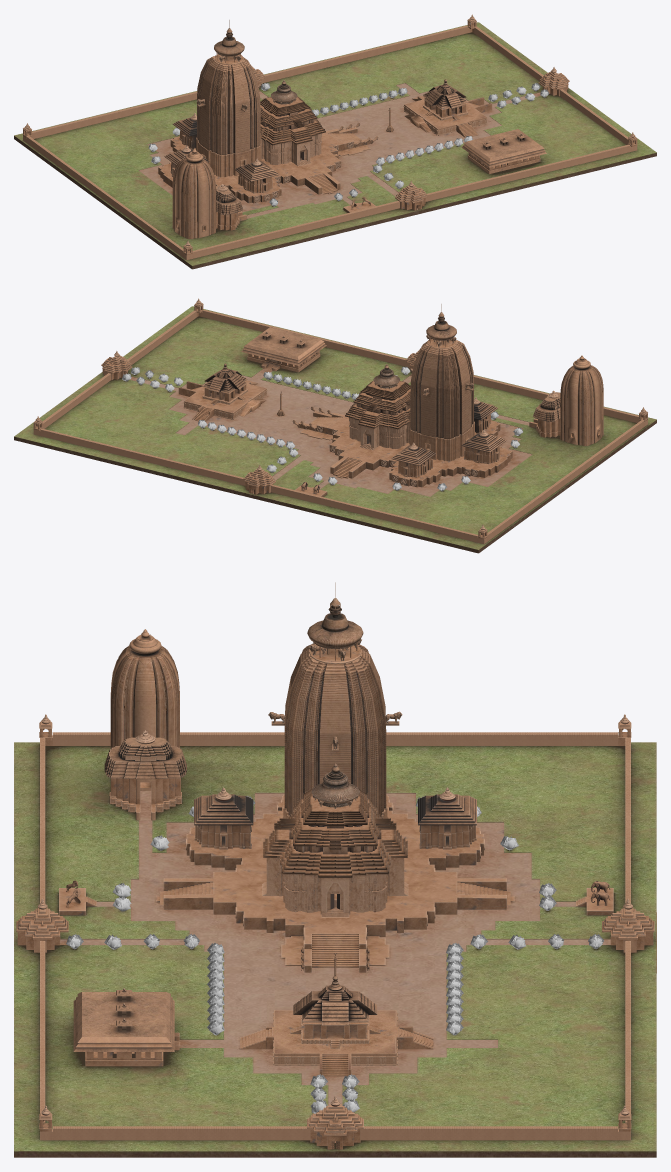
File: DS_Kornak_Sun_Temple.gltf
3 renders of one model, top to bottom at view 1: azimuth 30°, elevation 25°; view 2: azimuth 150°, elevation 25°; view 3: azimuth 270°, elevation 25°, orthographic. The views are drawn at different scales.
Visible parts, largest first — view 1: Konark_Sun_Temple; view 2: Konark_Sun_Temple; view 3: Konark_Sun_Temple.
Boxes of the visible parts, bbox=[...] form: Konark_Sun_Temple: bbox=[14, 14, 656, 269]; Konark_Sun_Temple: bbox=[14, 298, 656, 553]; Konark_Sun_Temple: bbox=[14, 582, 656, 1157].
Size of the model in its own units: 269 by 85.26 by 179.
